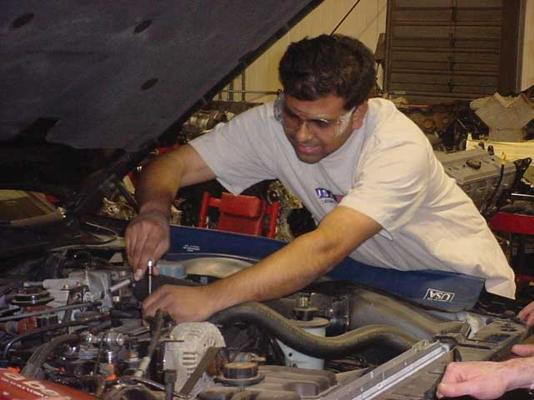person: (120, 32, 518, 326)
